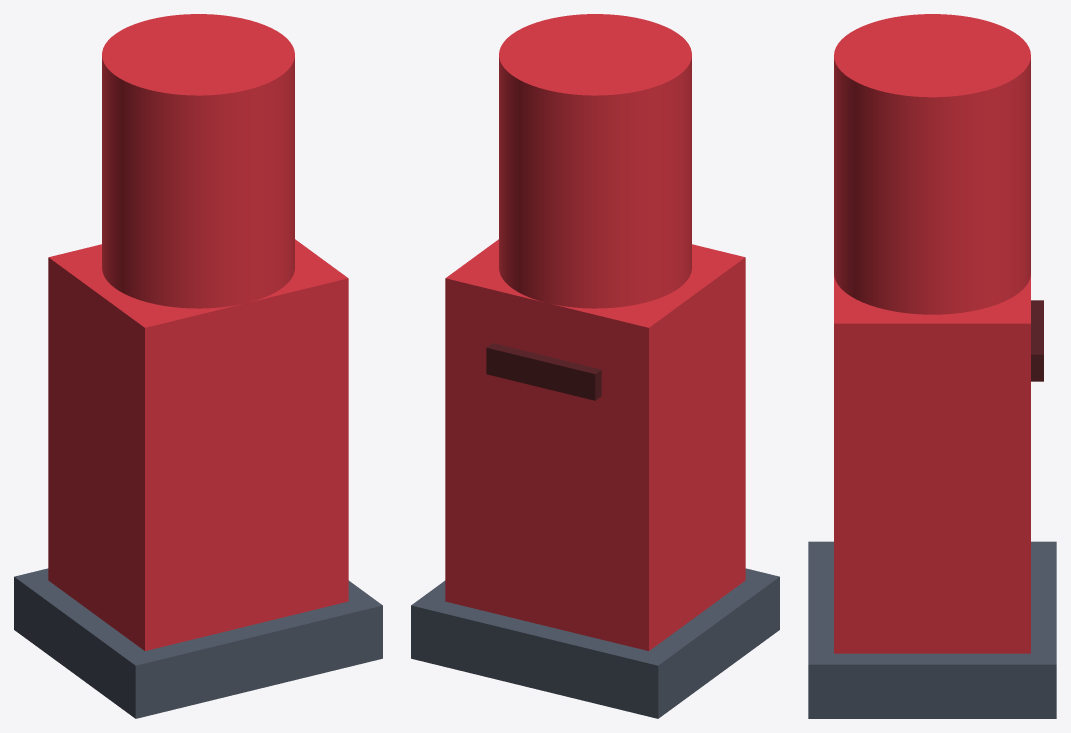
Rendered from postbox.glb.
3 views of the same model, side by side, from view 1: azimuth 30°, elevation 25°; view 2: azimuth 150°, elevation 25°; view 3: azimuth 270°, elevation 25° (orthographic). The views are drawn at different scales.
Parts seen in each view (by area): view 1: body, top, base; view 2: body, top, base, slot; view 3: body, top, base, slot.
Boxes of the visible parts, box(x1,y1,x2,y2) form: body: box(48, 239, 348, 650); top: box(102, 14, 294, 308); base: box(14, 568, 382, 718); body: box(445, 239, 745, 650); top: box(499, 14, 691, 308); base: box(411, 568, 779, 718); slot: box(486, 343, 601, 400); body: box(834, 275, 1030, 653); top: box(834, 14, 1030, 314); base: box(808, 541, 1056, 718); slot: box(1031, 300, 1043, 381).
Bounding box in the file's own units: 0.68 × 1.55 × 0.58.
